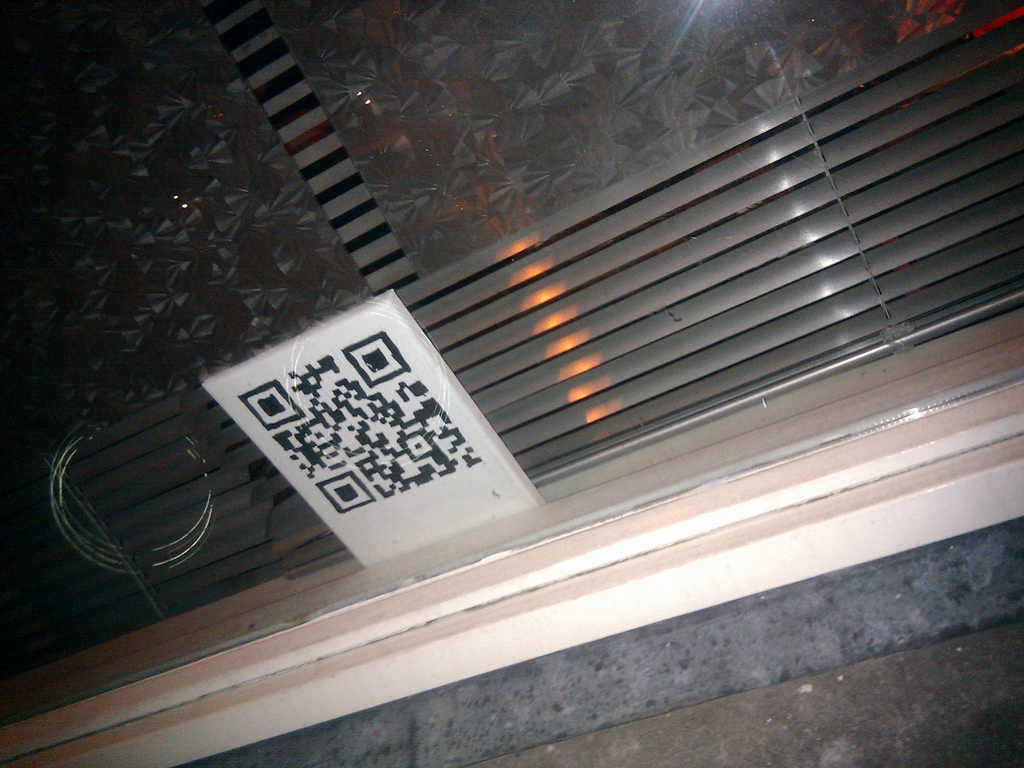QR-CODE: (238, 330, 483, 514)
